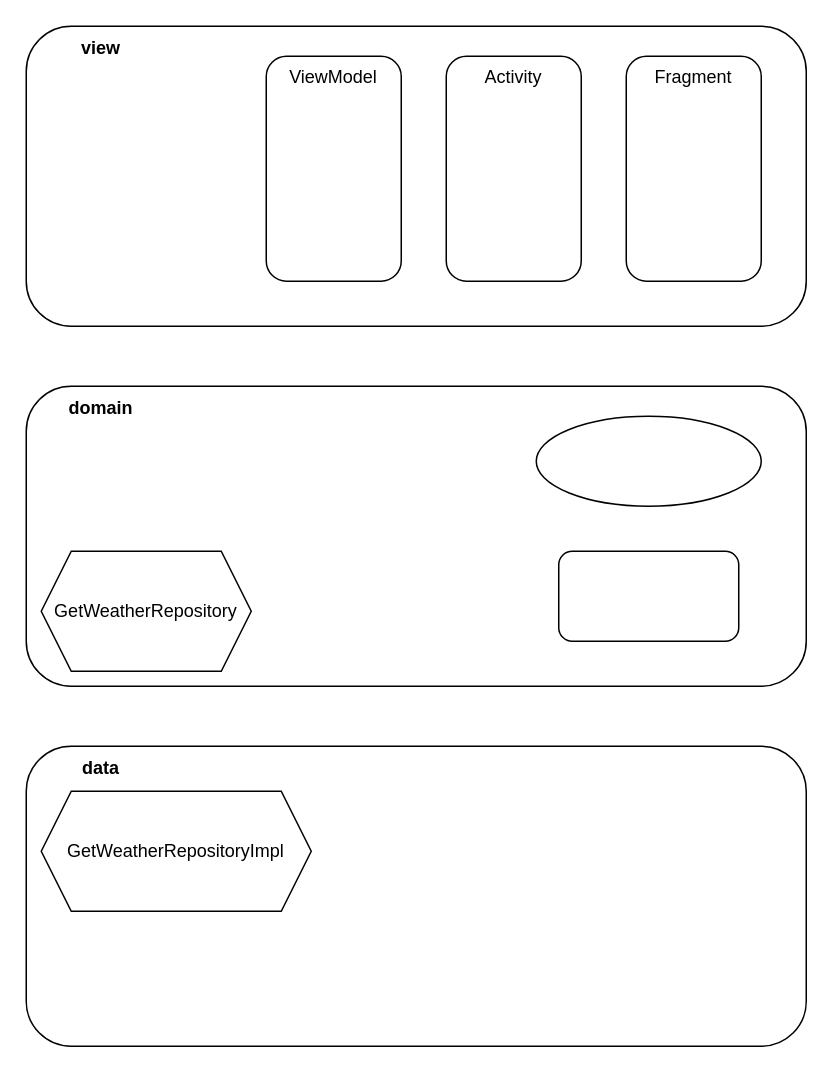
This 833x1073 diagram has some shape labels left out. Here are the shapes that lost their labels. From the top down, the centre of each, then its label:
the point at 648,460: getWeatherUseCase
the point at 648,595: weatherModel
